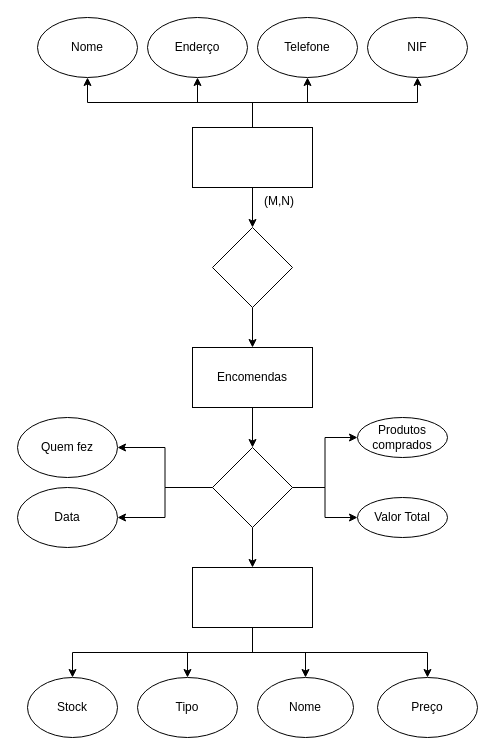
This 495x755 diagram has some shape labels left out. Each missing label, with the box of its shape:
Clientes: (192, 126, 312, 188)
Contém: (212, 446, 292, 528)
Pedem: (212, 226, 292, 308)
Produtos: (192, 566, 312, 628)
